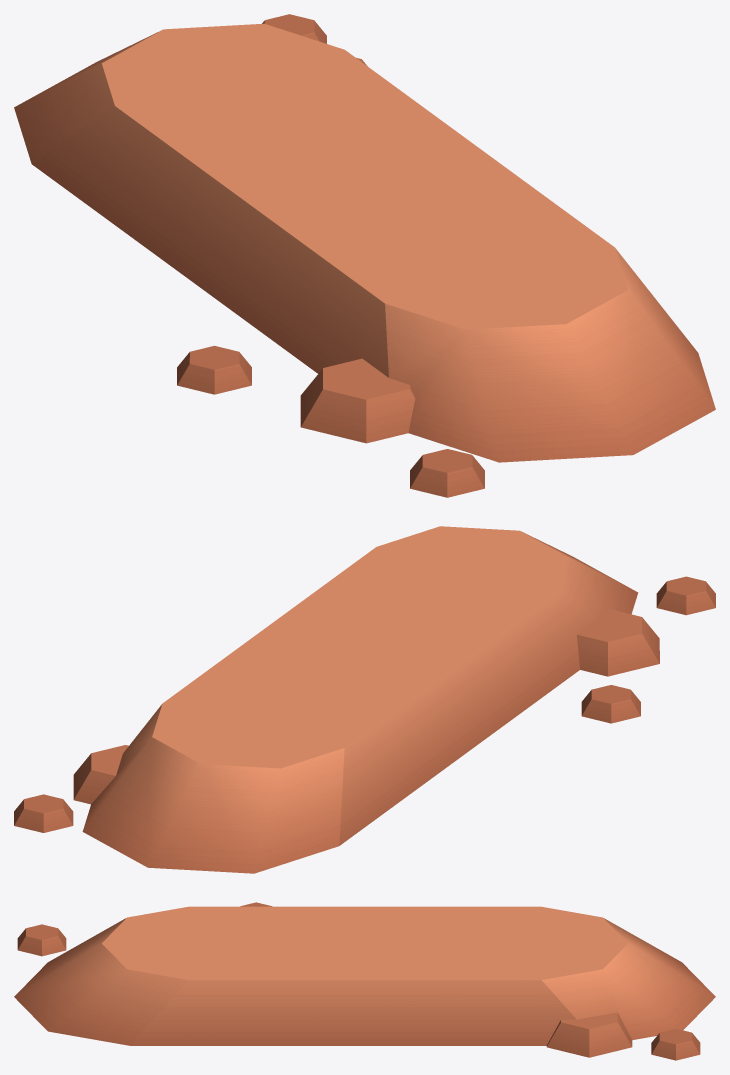
The model's file is grave.glb.
3 renders of one model, top to bottom at view 1: azimuth 30°, elevation 25°; view 2: azimuth 150°, elevation 25°; view 3: azimuth 270°, elevation 25°, orthographic. The views are drawn at different scales.
Parts seen in each view (by area): view 1: Asset3DLoader.sceneRoot; view 2: Asset3DLoader.sceneRoot; view 3: Asset3DLoader.sceneRoot.
Part boxes in pixels (x1,y1,x2,y2): Asset3DLoader.sceneRoot: (14,14,715,497); Asset3DLoader.sceneRoot: (14,526,715,873); Asset3DLoader.sceneRoot: (14,902,715,1060).
Bounding box in the file's own units: 0.5731 × 0.0952 × 1.13.
Materials: 1 (1 with a texture image).
